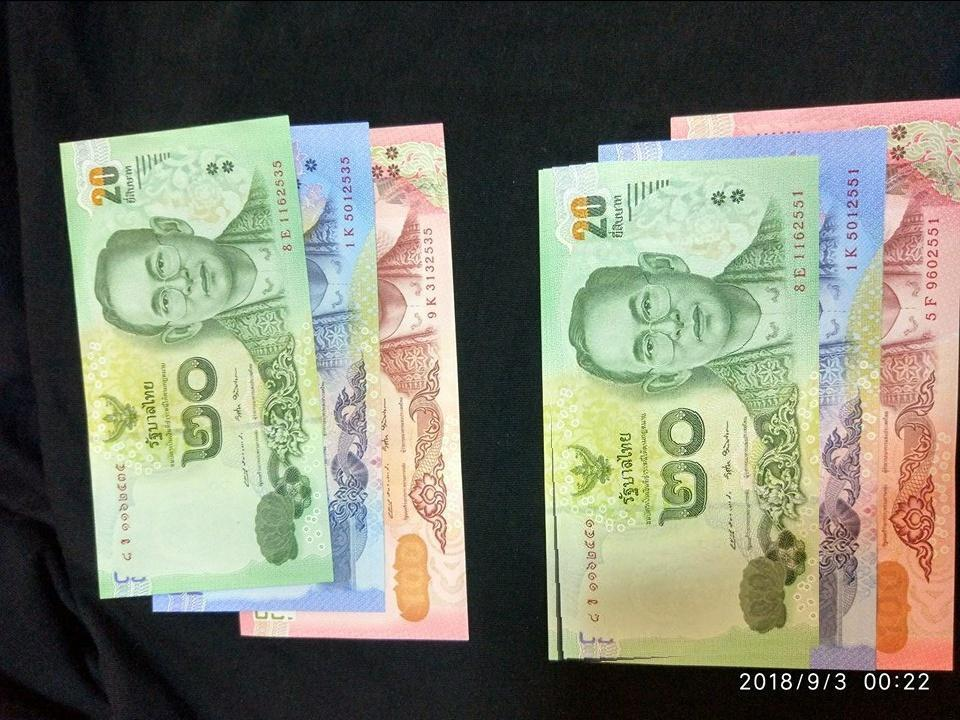20BahtTai: (543, 162, 819, 665)
